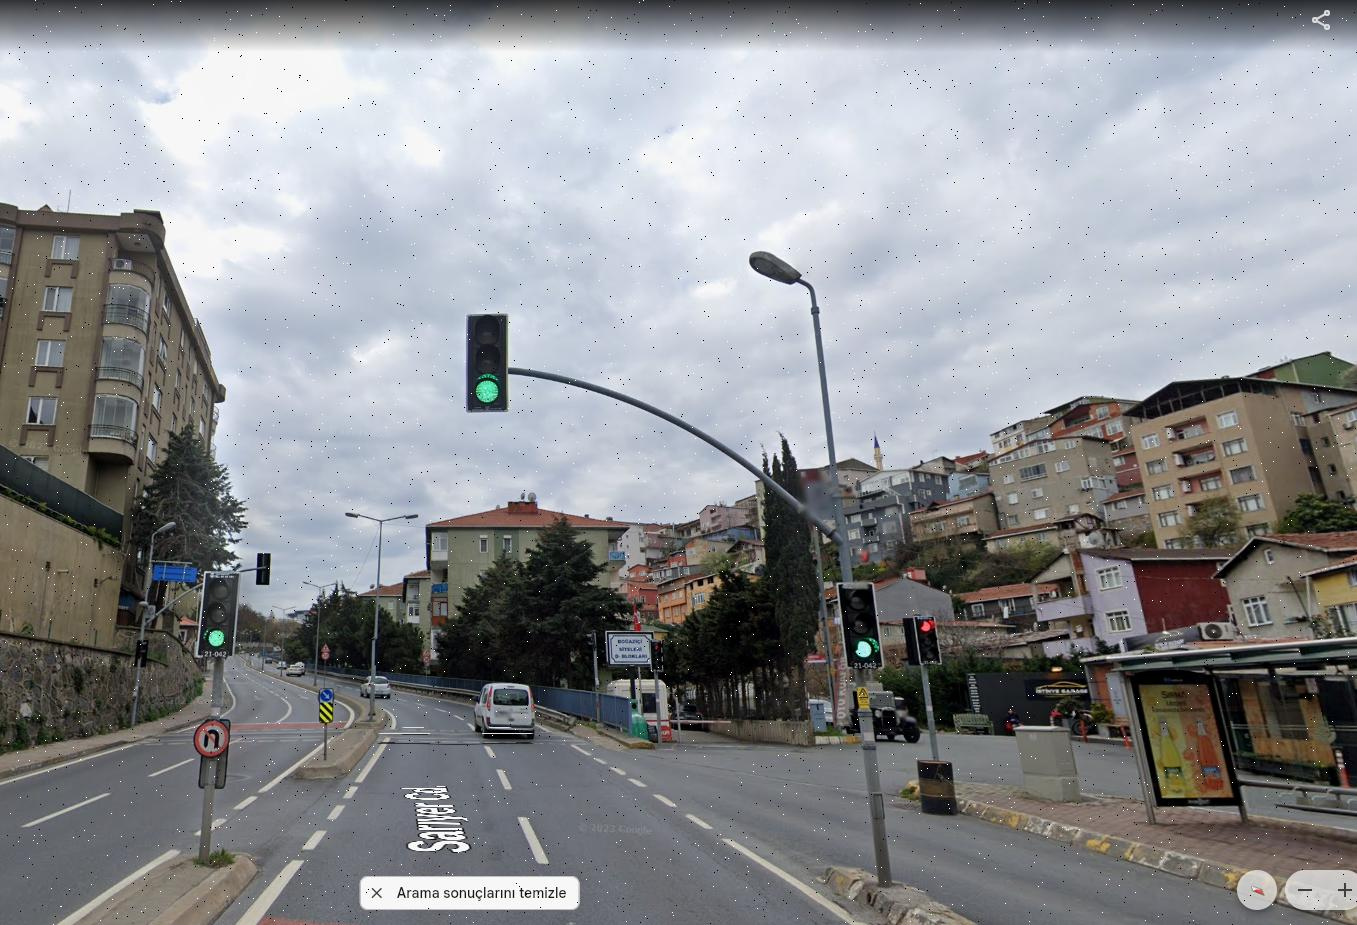greenlight: (461, 306, 515, 422), (830, 573, 887, 678), (192, 566, 246, 666)
redlight: (899, 612, 945, 668)
